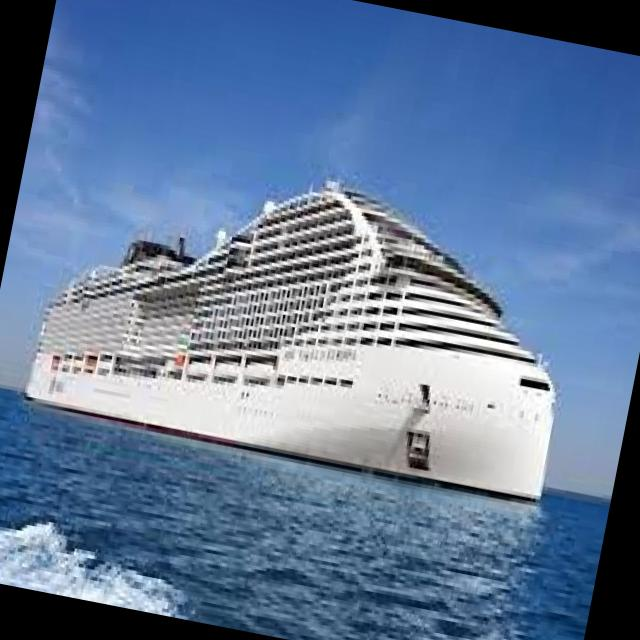Cruise: (25, 182, 556, 503)
